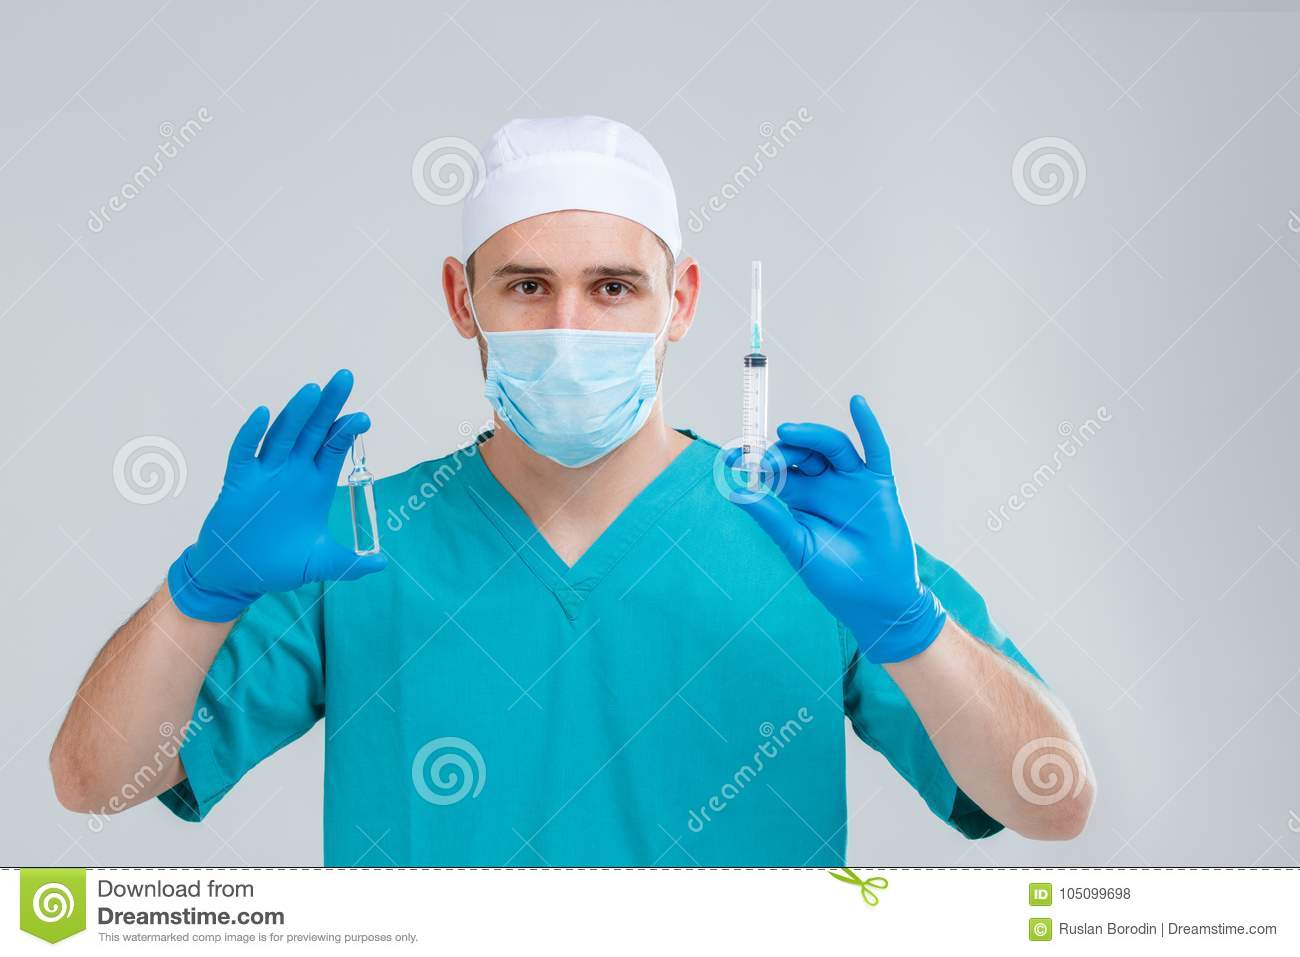mask: (479, 320, 688, 476)
